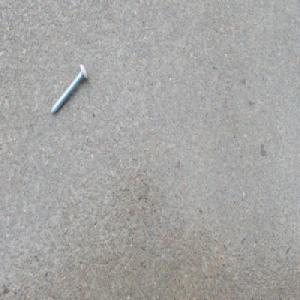Nail: (49, 60, 88, 116)
